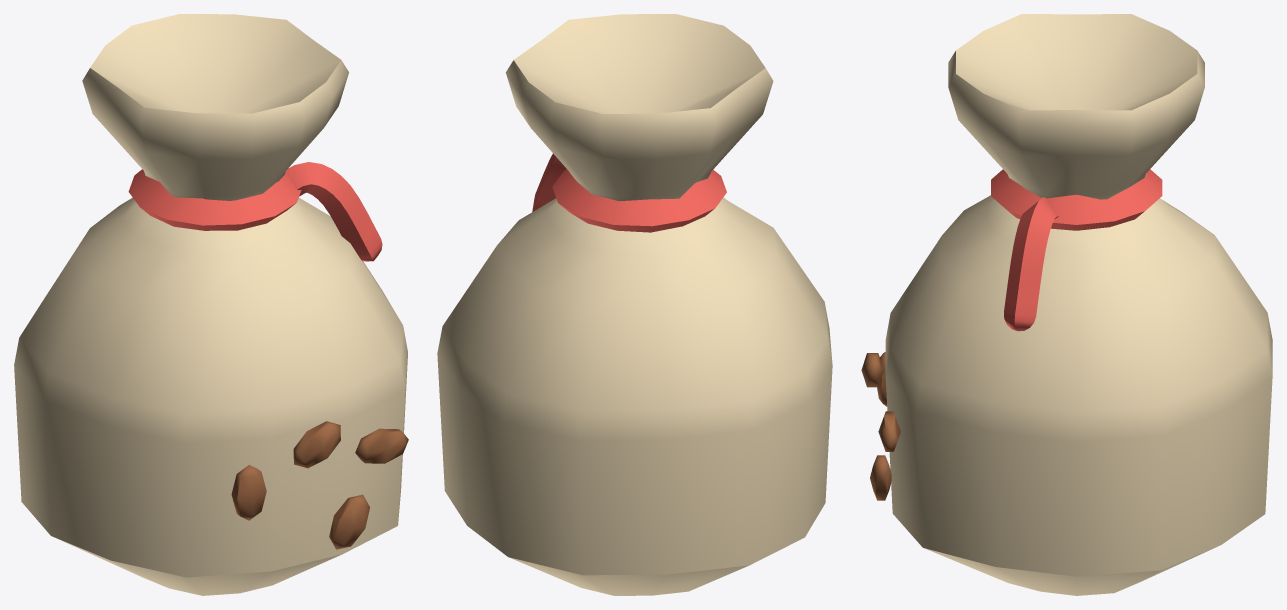
File: item_seeds.glb
3 views of the same model, side by side, from view 1: azimuth 30°, elevation 25°; view 2: azimuth 150°, elevation 25°; view 3: azimuth 270°, elevation 25° (orthographic).
Visible parts, largest first — view 1: item_seeds; view 2: item_seeds; view 3: item_seeds.
Boxes of the visible parts, x1,y1,x2,y2 form: item_seeds: (14,14,408,595); item_seeds: (437,14,832,595); item_seeds: (861,14,1272,595).
Bounding box in the file's own units: 0.1401 × 0.195 × 0.1452.
